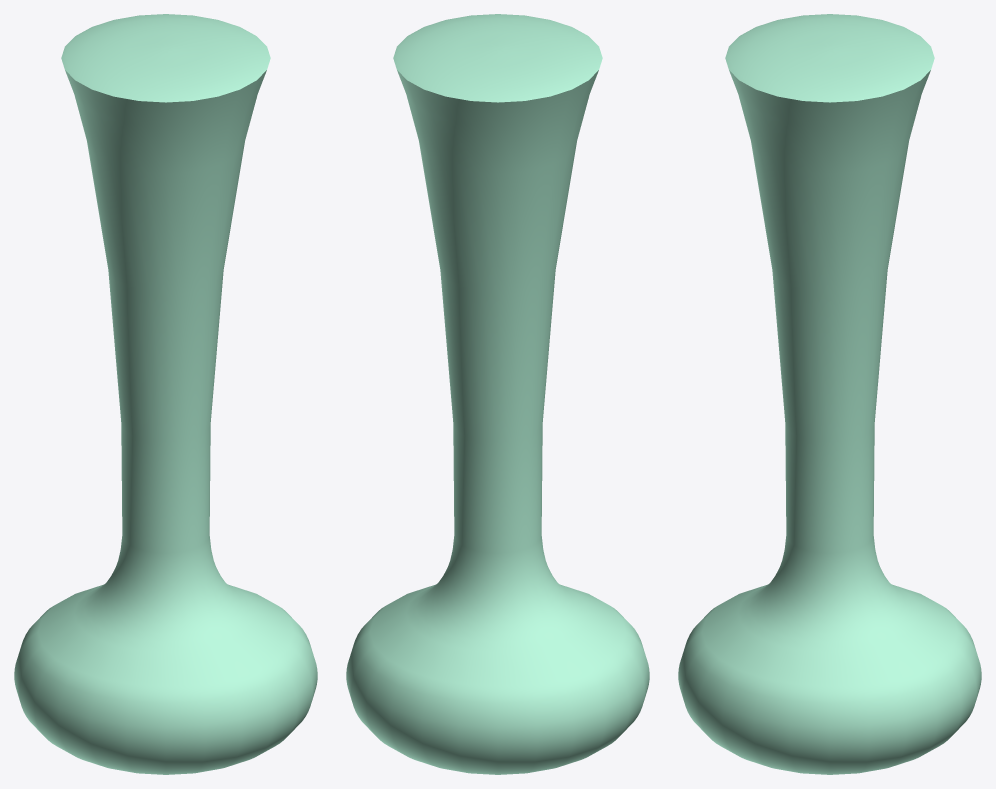
The model's file is vase number 2.fbx.
The picture shows the model from 3 angles, left to right: view 1: azimuth 30°, elevation 25°; view 2: azimuth 150°, elevation 25°; view 3: azimuth 270°, elevation 25°; orthographic projection.
Visible parts, largest first — view 1: Lathe; view 2: Lathe; view 3: Lathe.
Part boxes in pixels (x1=…): Lathe: x1=14, y1=14, x2=317, y2=774; Lathe: x1=346, y1=14, x2=649, y2=774; Lathe: x1=678, y1=14, x2=981, y2=774.
Bounding box in the file's own units: 168 × 426 × 168.
